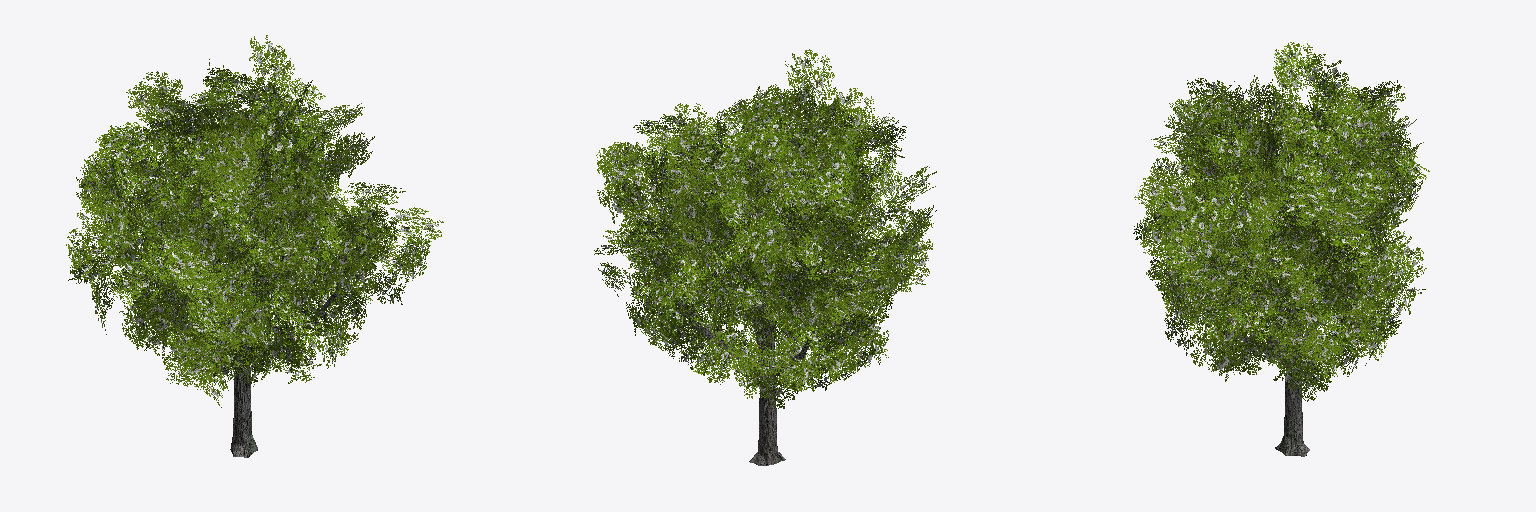
3 renders of one model, left to right at view 1: azimuth 30°, elevation 25°; view 2: azimuth 150°, elevation 25°; view 3: azimuth 270°, elevation 25°, orthographic.
Parts seen in each view (by area): view 1: Foliage__leafcard, Bark; view 2: Foliage__leafcard, Bark; view 3: Foliage__leafcard, Bark.
Boxes of the visible parts, box(x1,y1,x2,y2) form: Foliage__leafcard: box(66, 35, 443, 407); Bark: box(128, 206, 347, 457); Foliage__leafcard: box(594, 49, 936, 408); Bark: box(656, 220, 879, 465); Foliage__leafcard: box(1133, 42, 1429, 401); Bark: box(1216, 225, 1353, 456).
Size of the model in its own units: 8.08 by 10 by 7.08.
2 materials, 2 textured.